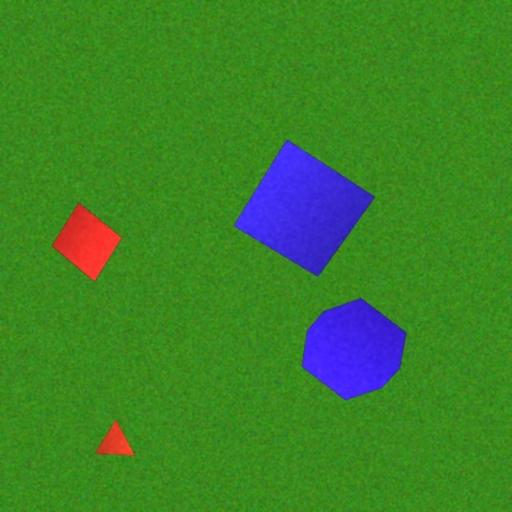BLUE_SQUARE: (233, 138, 376, 278)
RED_SQUARE: (52, 202, 122, 282)
